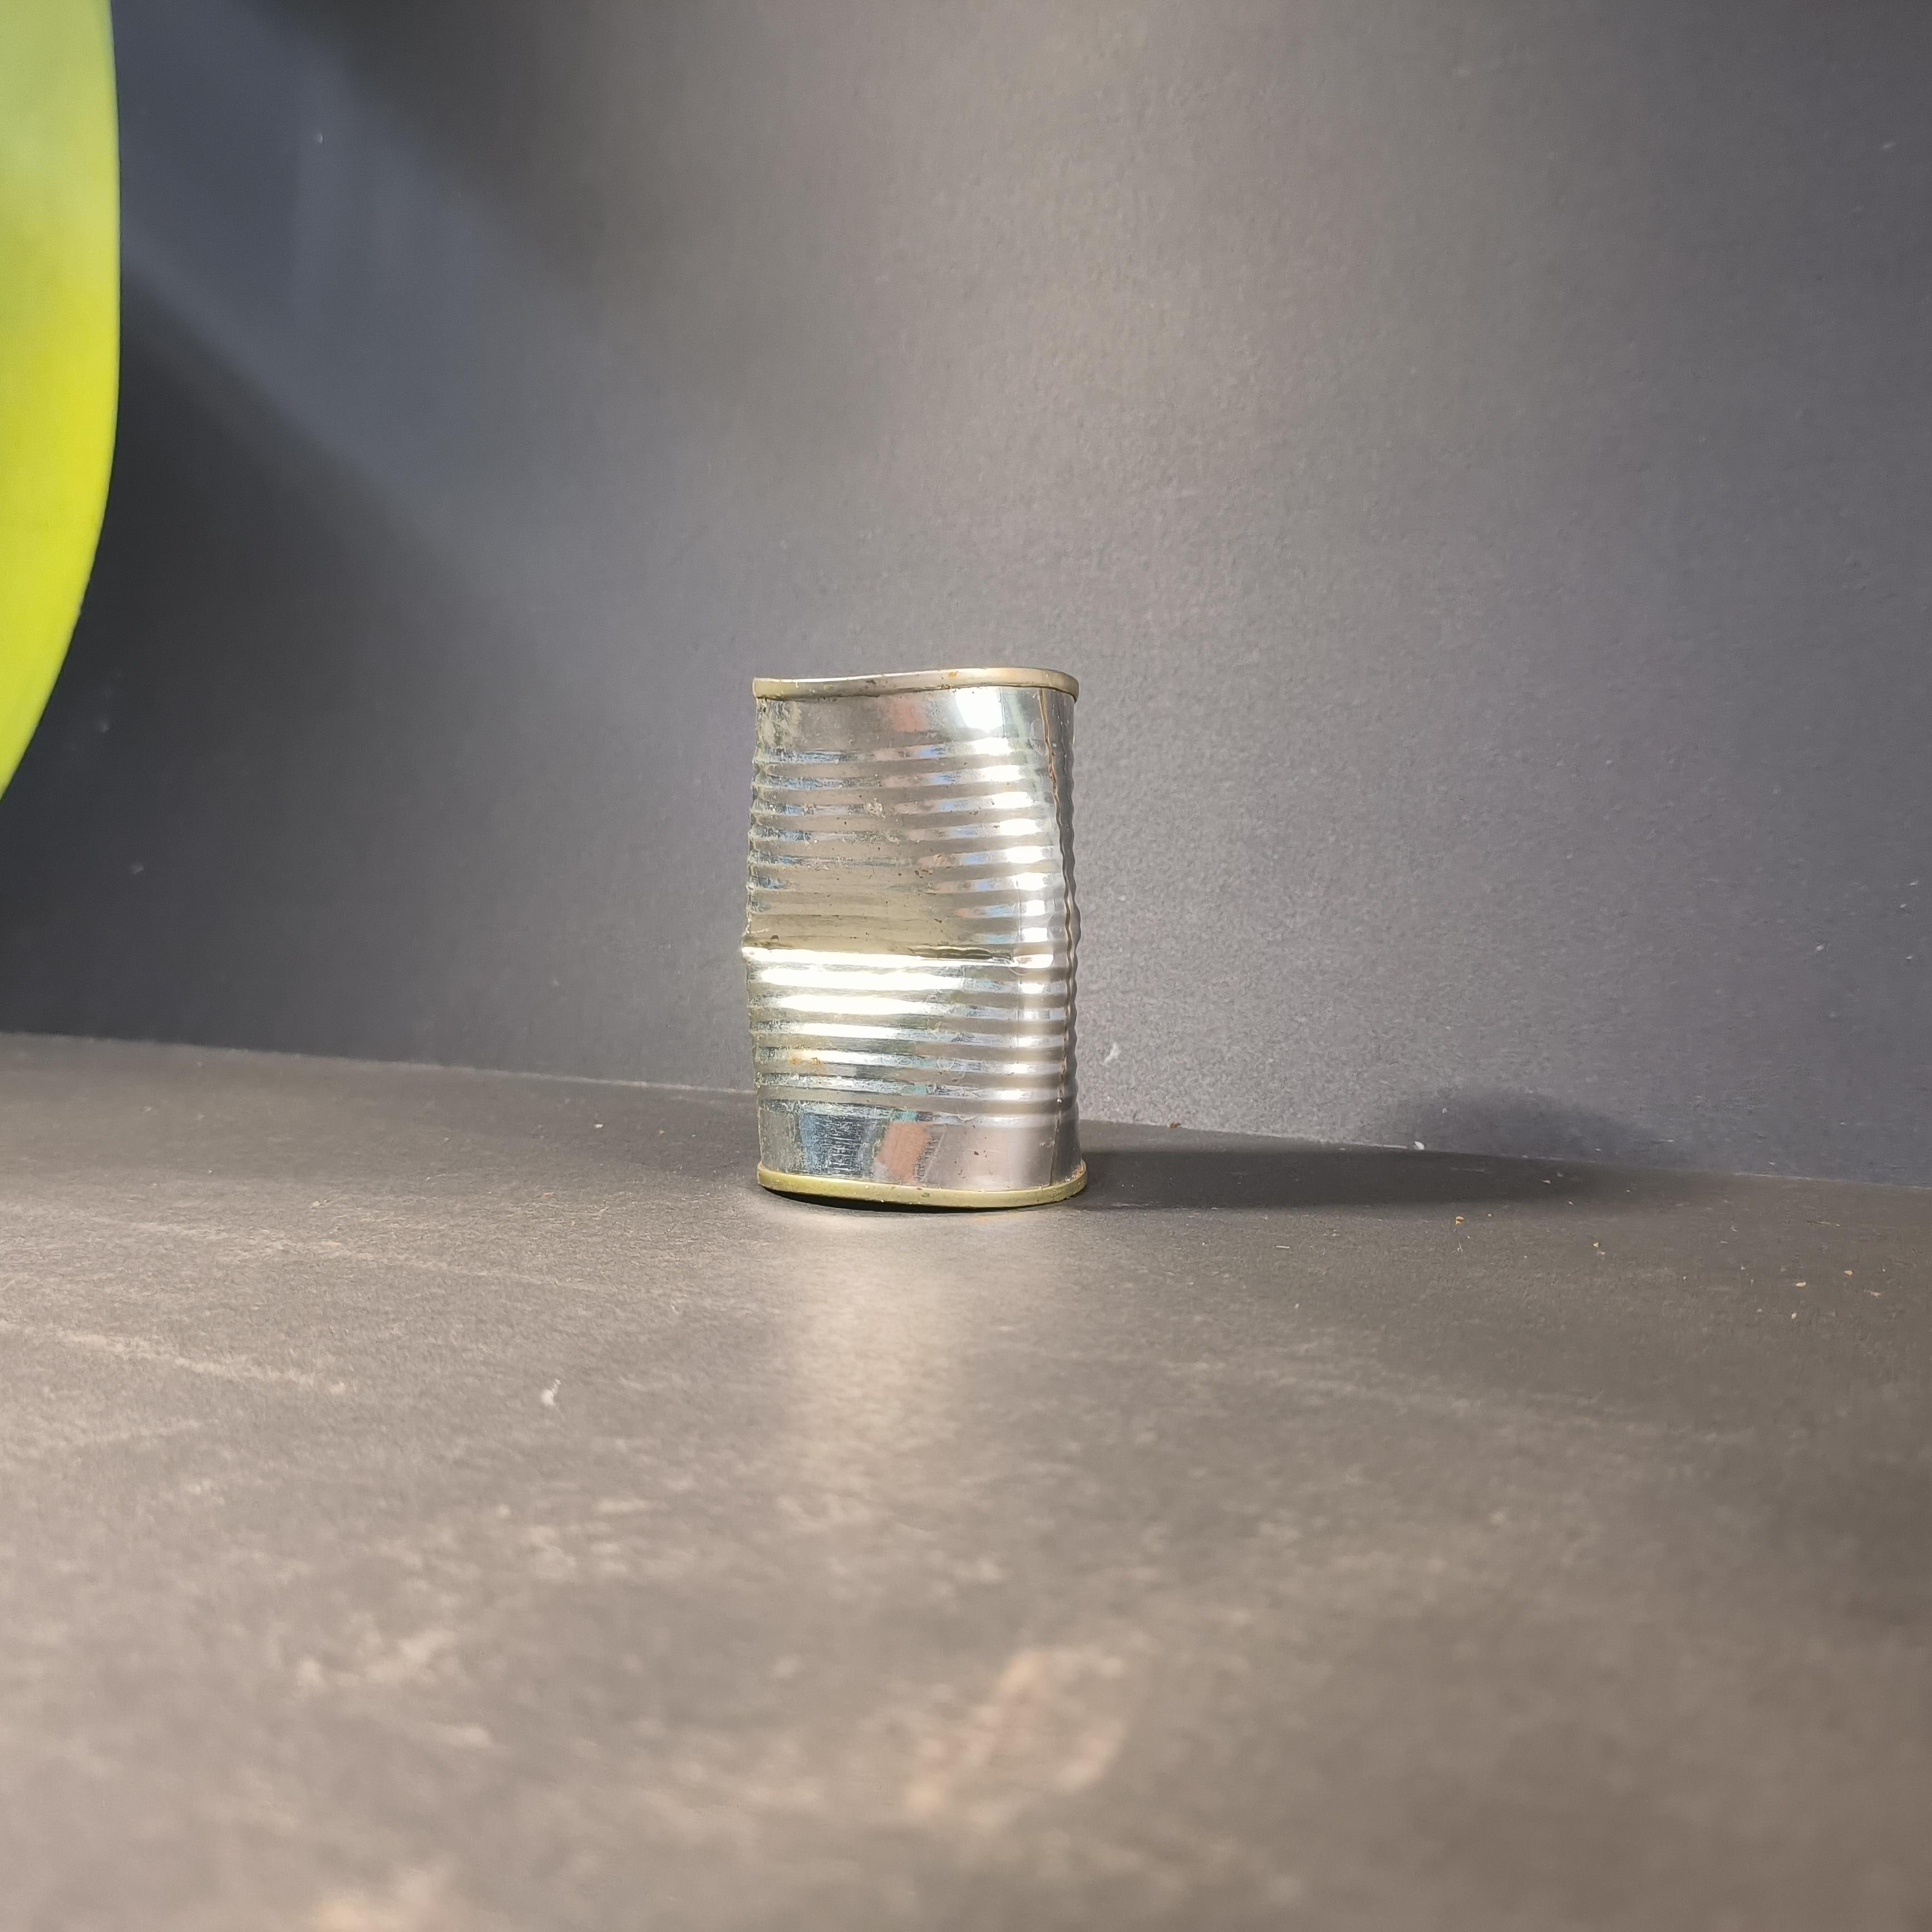Major Defect: (740, 663, 1092, 1212)
